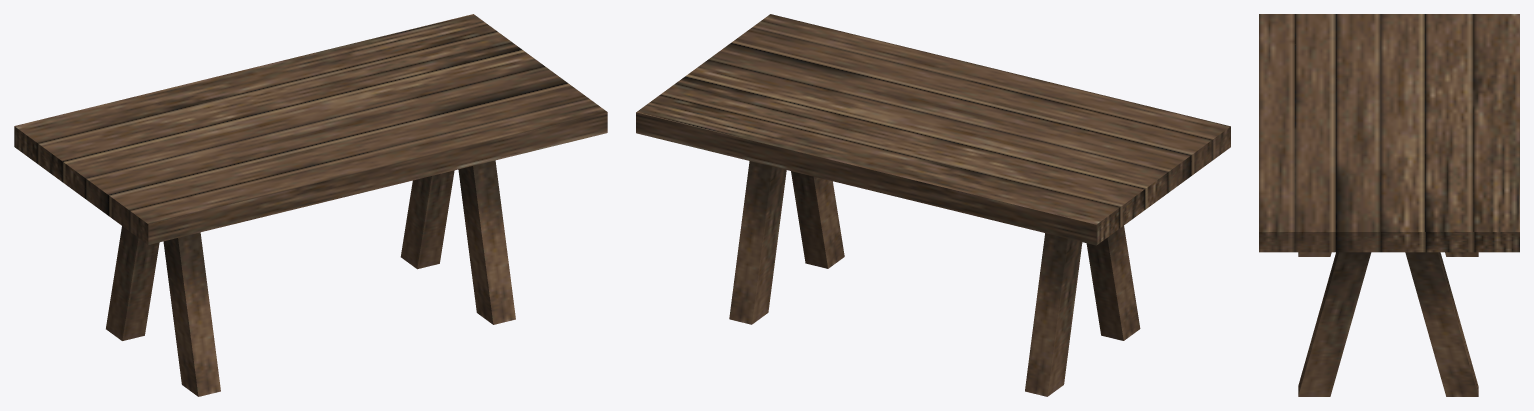
3 views of the same model, side by side, from view 1: azimuth 30°, elevation 25°; view 2: azimuth 150°, elevation 25°; view 3: azimuth 270°, elevation 25° (orthographic). The views are drawn at different scales.
Parts seen in each view (by area): view 1: a42; view 2: a42; view 3: a42.
Boxes of the visible parts, x1,y1,x2,y2 form: a42: (14, 14, 607, 396); a42: (636, 14, 1230, 396); a42: (1259, 14, 1519, 396).
Bounding box in the file's own units: 517 × 220 × 261.
